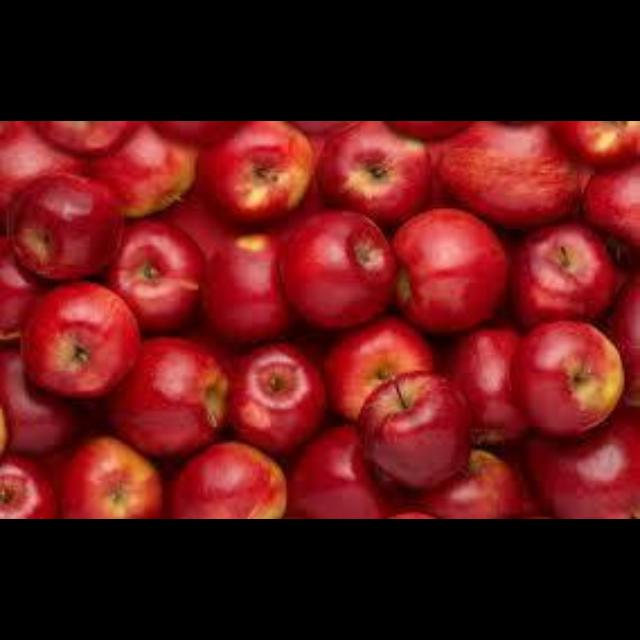apple: (392, 209, 507, 333), (108, 337, 228, 455), (20, 281, 140, 396), (279, 211, 394, 326), (358, 371, 469, 488), (512, 322, 622, 434), (525, 409, 638, 518), (7, 173, 122, 279), (315, 121, 430, 225), (198, 121, 313, 222), (325, 317, 433, 418), (106, 220, 203, 331), (230, 344, 325, 455), (86, 123, 194, 216), (512, 225, 613, 324), (203, 234, 291, 342), (286, 425, 388, 518), (448, 328, 527, 443), (171, 443, 284, 518), (61, 436, 162, 518), (0, 349, 77, 452), (417, 450, 523, 518), (0, 457, 54, 518)
